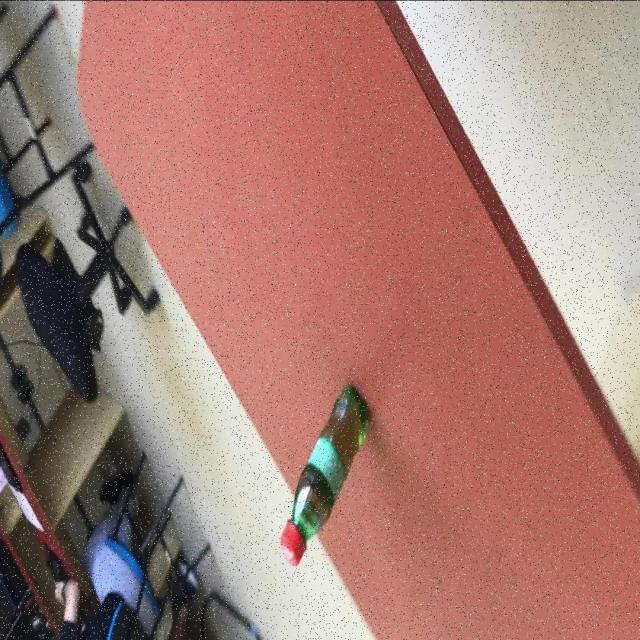Guarana: (278, 384, 370, 568)
